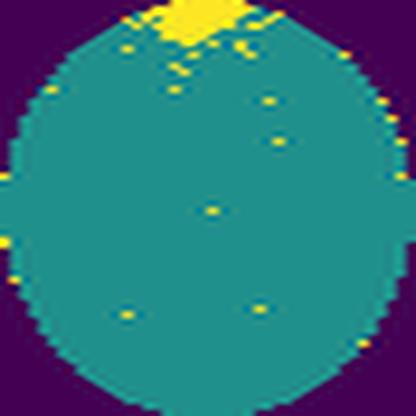Edge-Loc: (134, 0, 262, 50)
